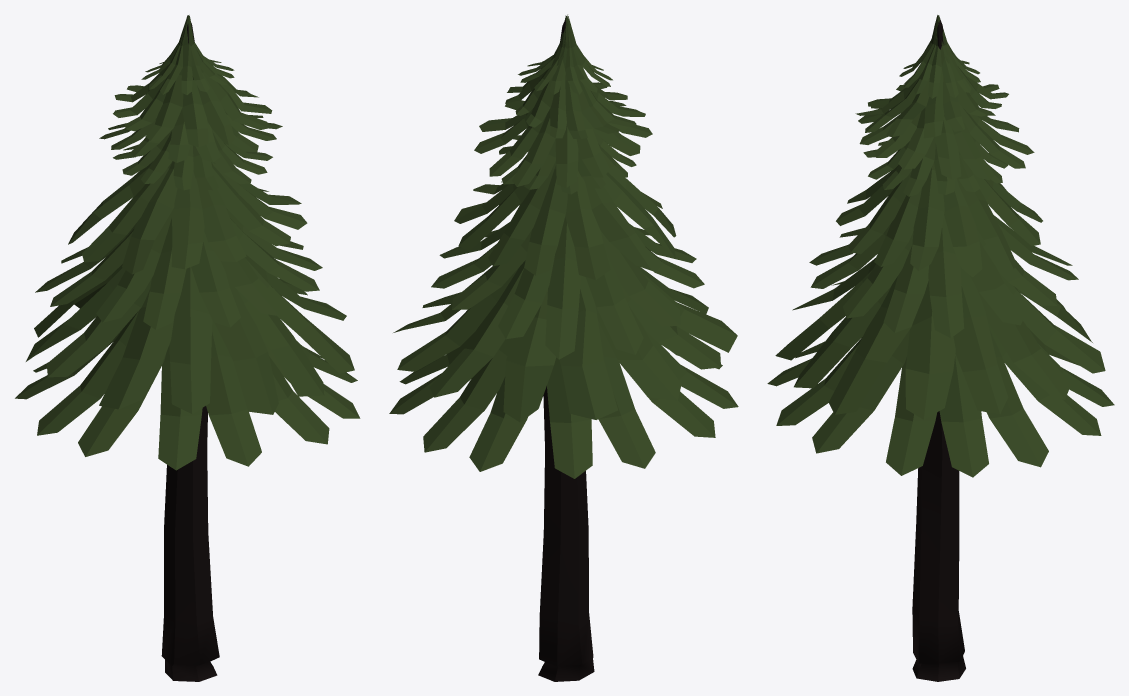
The model's file is pine_tree.FBX.
The picture shows the model from 3 angles, left to right: view 1: azimuth 30°, elevation 25°; view 2: azimuth 150°, elevation 25°; view 3: azimuth 270°, elevation 25°; orthographic projection.
Visible parts, largest first — view 1: pine_leaf, tree_base_00; view 2: pine_leaf, tree_base_00; view 3: pine_leaf, tree_base_00.
Boxes of the visible parts, <box> form: pine_leaf: <box>15,15,360,470</box>; tree_base_00: <box>161,16,219,681</box>; pine_leaf: <box>389,14,738,478</box>; tree_base_00: <box>538,20,594,681</box>; pine_leaf: <box>767,15,1114,477</box>; tree_base_00: <box>912,19,965,681</box>.
Bounding box in the file's own units: 329 × 686 × 330.
